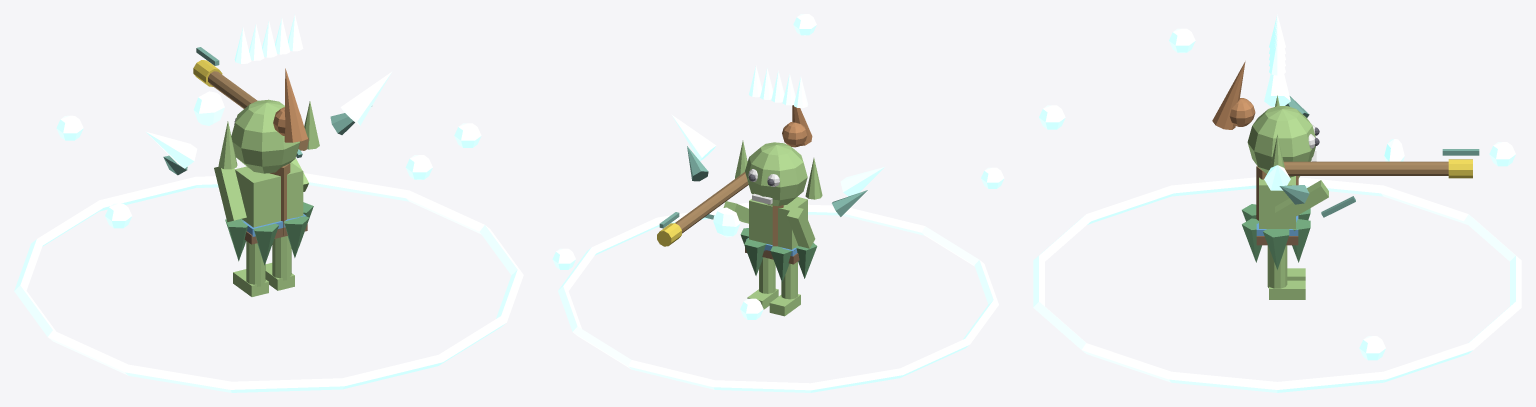
The model's file is evolved_dart_goblin.glb.
3 views of the same model, side by side, from view 1: azimuth 30°, elevation 25°; view 2: azimuth 150°, elevation 25°; view 3: azimuth 270°, elevation 25° (orthographic). The views are drawn at different scales.
Visible parts, largest first — view 1: evolved_dart_goblin; view 2: evolved_dart_goblin; view 3: evolved_dart_goblin.
Boxes of the visible parts, x1,y1,x2,y2 form: evolved_dart_goblin: [14, 14, 523, 392]; evolved_dart_goblin: [552, 14, 1004, 392]; evolved_dart_goblin: [1033, 14, 1521, 392].
Size of the model in its own units: 4.51 by 2.61 by 4.4.
